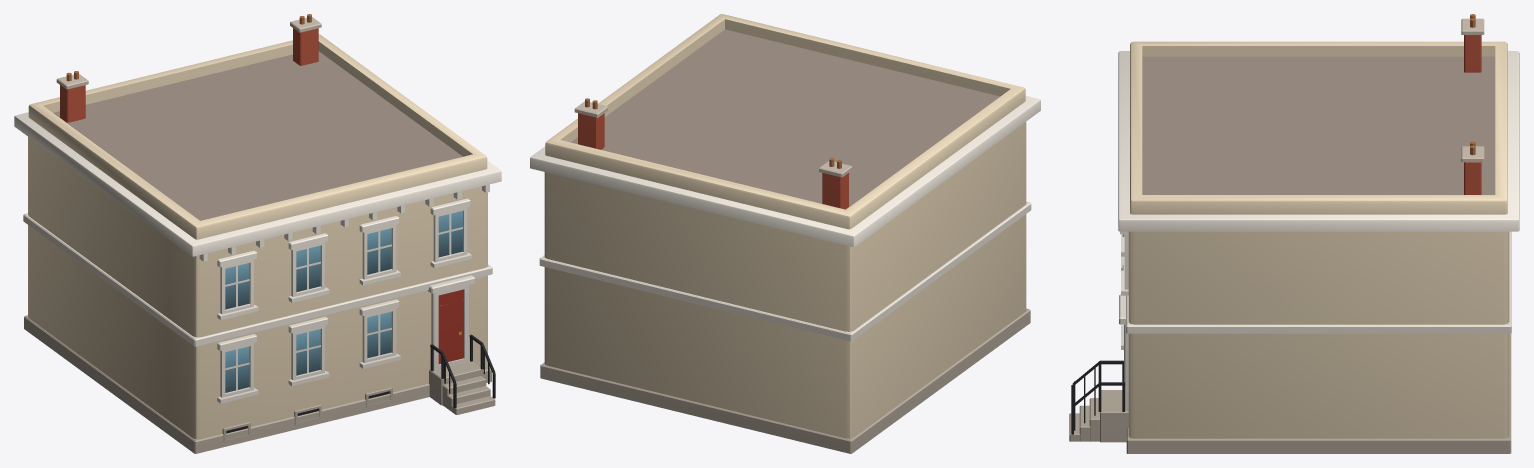
The model's file is beacon_ne0.glb.
The picture shows the model from 3 angles, left to right: view 1: azimuth 30°, elevation 25°; view 2: azimuth 150°, elevation 25°; view 3: azimuth 270°, elevation 25°; orthographic projection. The views are drawn at different scales.
Parts seen in each view (by area): view 1: beacon_ne0; view 2: beacon_ne0; view 3: beacon_ne0.
Part boxes in pixels (x1,y1,x2,y2): beacon_ne0: [14, 14, 501, 453]; beacon_ne0: [530, 14, 1040, 453]; beacon_ne0: [1069, 14, 1519, 453].
Bounding box in the file's own units: 12.64 × 10.14 × 14.18.
Materials: 1 (1 with a texture image).
